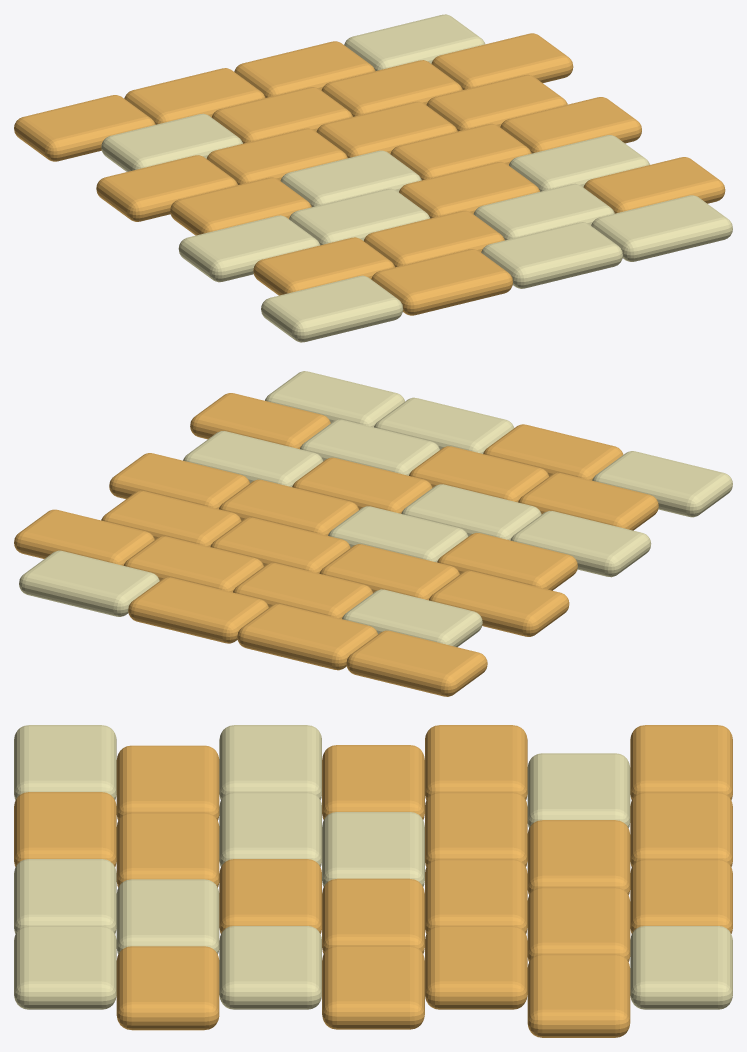
The model's file is roadbricks.fbx.
3 views of the same model, one above another, from view 1: azimuth 30°, elevation 25°; view 2: azimuth 150°, elevation 25°; view 3: azimuth 270°, elevation 25° (orthographic). The views are drawn at different scales.
Visible parts, largest first — view 1: Cube; view 2: Cube; view 3: Cube.
Part boxes in pixels (x1,y1,x2,y2): Cube: (14,14,732,342); Cube: (14,371,732,696); Cube: (14,725,732,1037).
Bounding box in the file's own units: 884 × 37.64 × 908.
